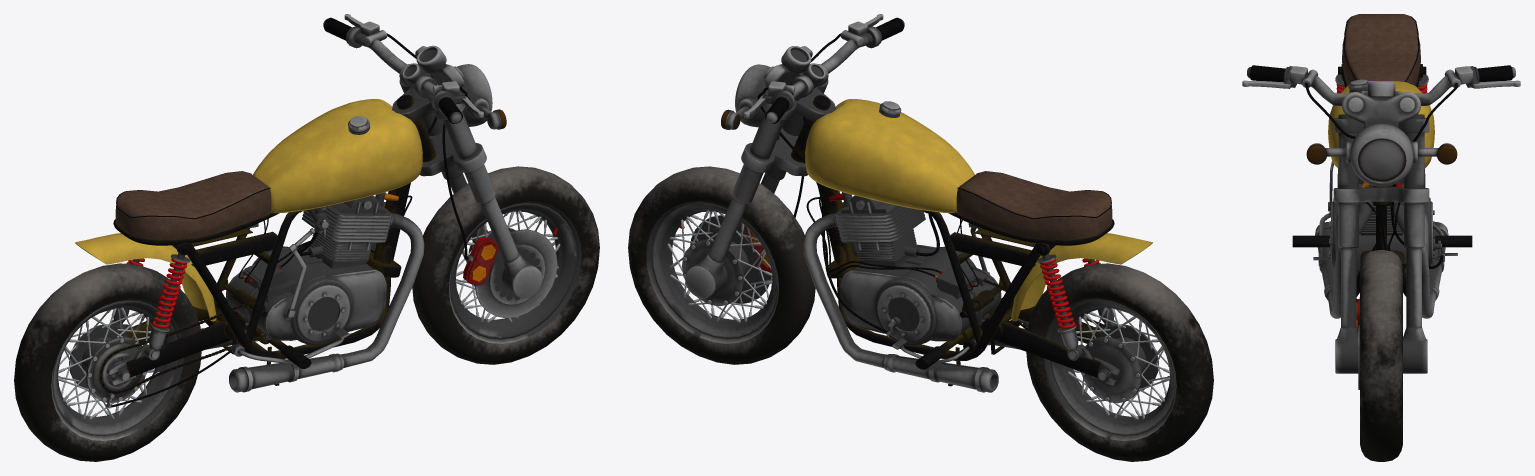
Rendered from coffeeracerfinal.fbx.
The picture shows the model from 3 angles, left to right: view 1: azimuth 30°, elevation 25°; view 2: azimuth 150°, elevation 25°; view 3: azimuth 270°, elevation 25°; orthographic projection. The views are drawn at different scales.
Parts seen in each view (by area): view 1: Cube.042; view 2: Cube.042; view 3: Cube.042.
Part boxes in pixels (x1,y1,x2,y2): Cube.042: (14, 14, 599, 461); Cube.042: (628, 14, 1213, 461); Cube.042: (1242, 14, 1520, 461).
Size of the model in its own units: 220 by 120 by 89.88.
